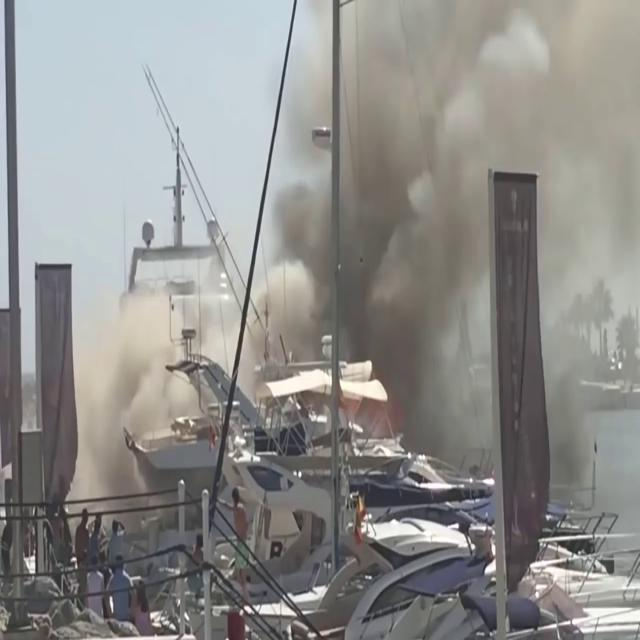Smoke: (271, 0, 640, 440), (65, 283, 201, 503)
